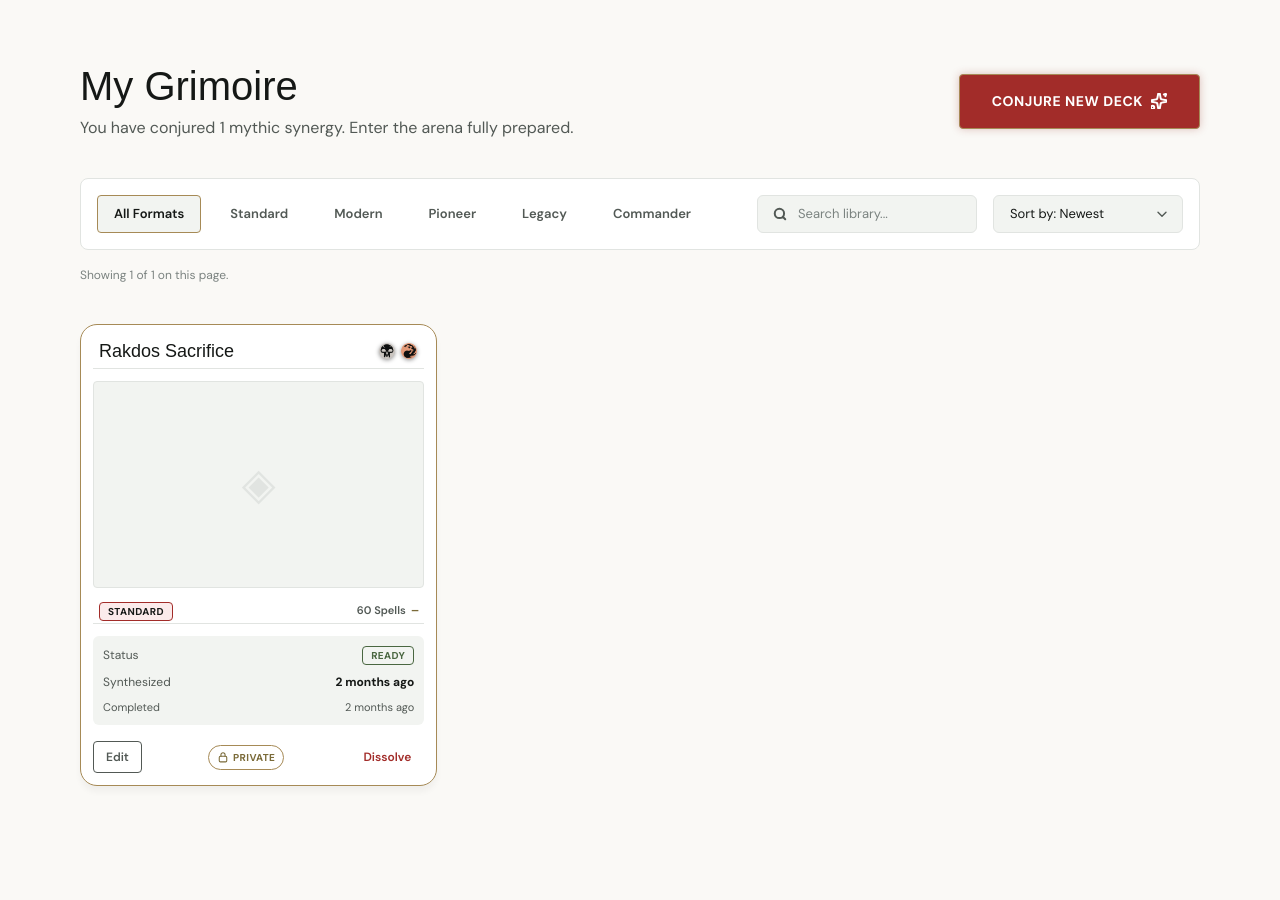
Test: LibraryPage › rolls the lock back and says why when the change fails (MTG-24)
This screenshot has width=1280, height=900.
Click the button with aria-label "Make public: Rakdos Sacrifice": (246, 757) [208, 745, 284, 770]
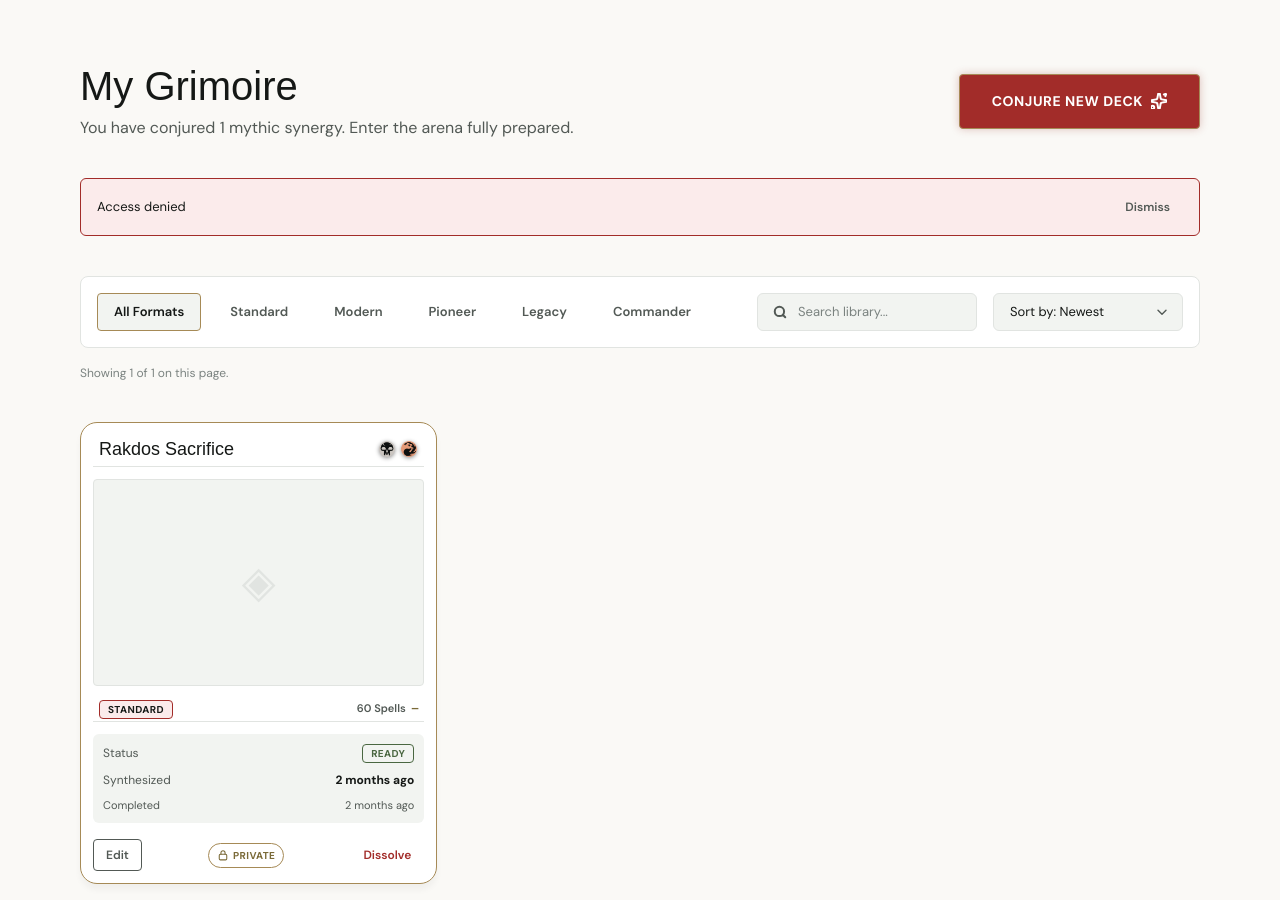
Check: the message "Access denied Dismiss" is shown, box [80, 178, 1200, 236]
